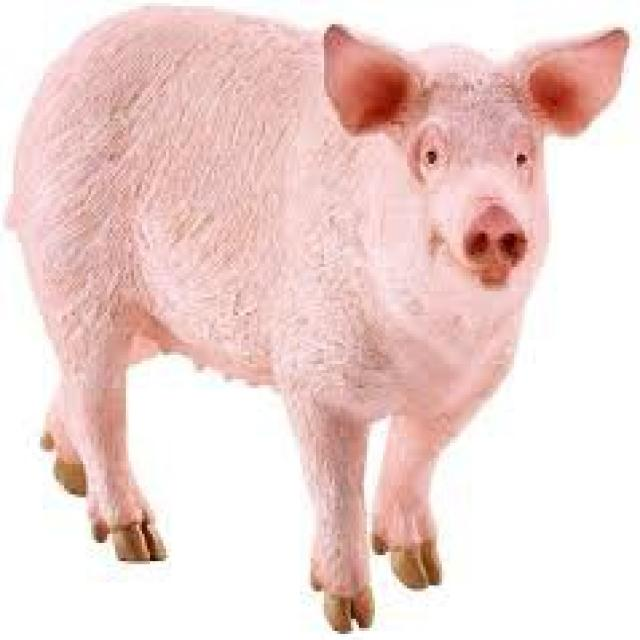Pig: (8, 0, 629, 634)
